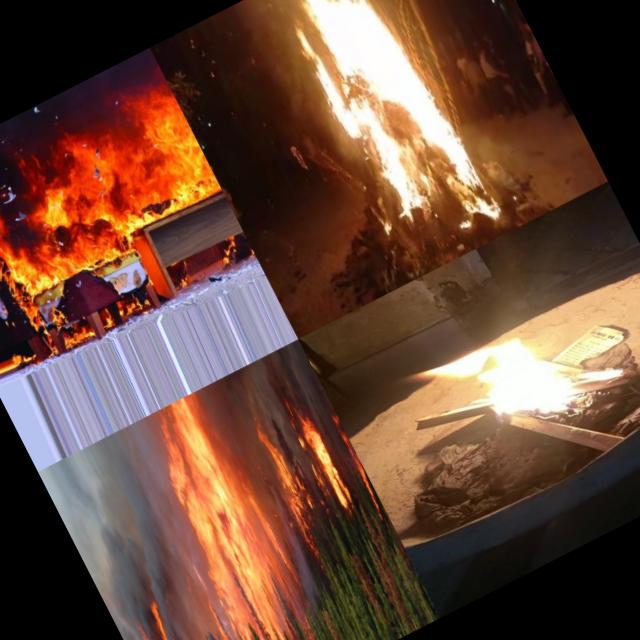fire: (266, 0, 497, 260), (0, 76, 228, 317), (119, 390, 336, 640), (397, 269, 640, 482), (250, 422, 324, 538), (322, 402, 391, 524), (286, 394, 358, 510), (289, 426, 336, 506), (130, 608, 218, 640)
smoke: (38, 424, 220, 640), (254, 482, 336, 616), (197, 620, 245, 640)
